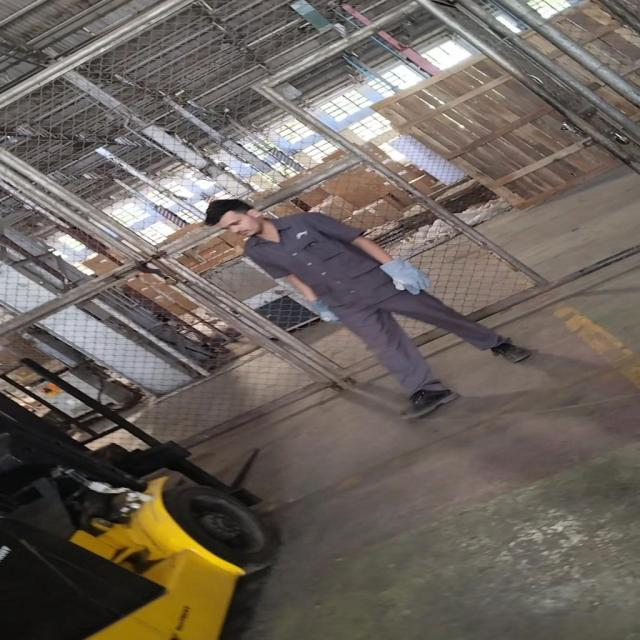Gloves-Detection: (375, 252, 431, 298), (304, 298, 341, 327)
